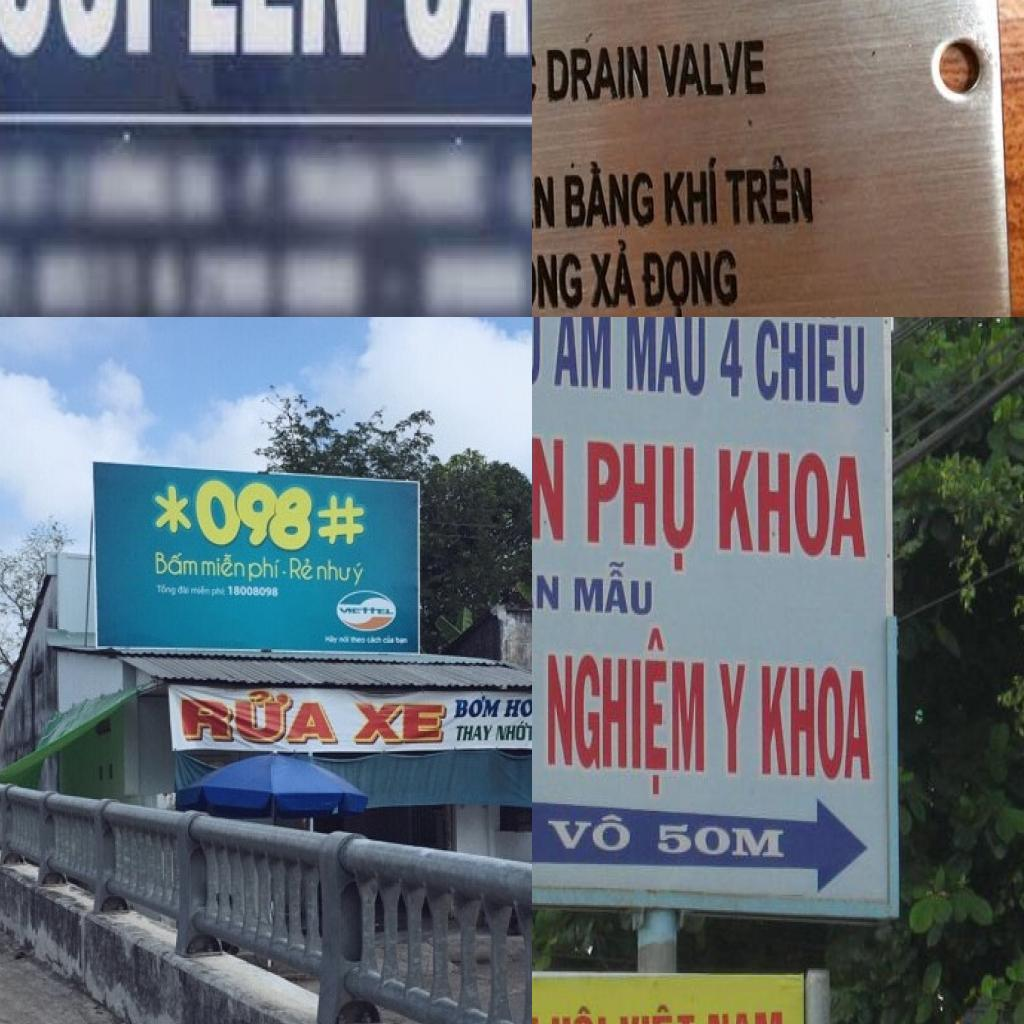text: (540, 623, 710, 806), (712, 440, 872, 564), (757, 652, 877, 790), (585, 436, 700, 577), (179, 0, 384, 67), (751, 317, 876, 416), (180, 688, 342, 746), (194, 478, 314, 553), (621, 317, 713, 404), (656, 33, 768, 101), (649, 818, 787, 869), (541, 43, 651, 105), (564, 161, 654, 232), (724, 156, 816, 225), (568, 553, 660, 622), (532, 388, 568, 550), (550, 317, 617, 396), (547, 808, 636, 862), (660, 152, 722, 229), (352, 699, 450, 745), (584, 237, 640, 317), (717, 656, 751, 785), (532, 241, 585, 310), (713, 317, 746, 401), (317, 495, 365, 549), (154, 482, 194, 536), (532, 160, 558, 233), (532, 561, 563, 618), (617, 1002, 696, 1024), (546, 1000, 612, 1024), (156, 550, 202, 580), (200, 552, 247, 581), (452, 696, 504, 720), (248, 553, 283, 586), (316, 558, 354, 583), (494, 720, 532, 743), (227, 584, 280, 600), (289, 556, 316, 584), (503, 695, 532, 720), (456, 725, 496, 743), (338, 606, 396, 617), (350, 561, 369, 589)
